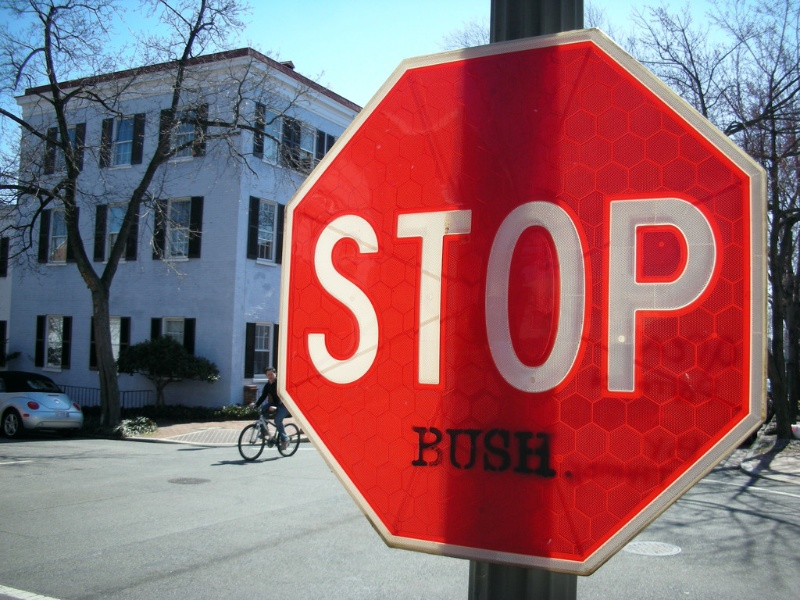stop: (302, 61, 767, 546)
